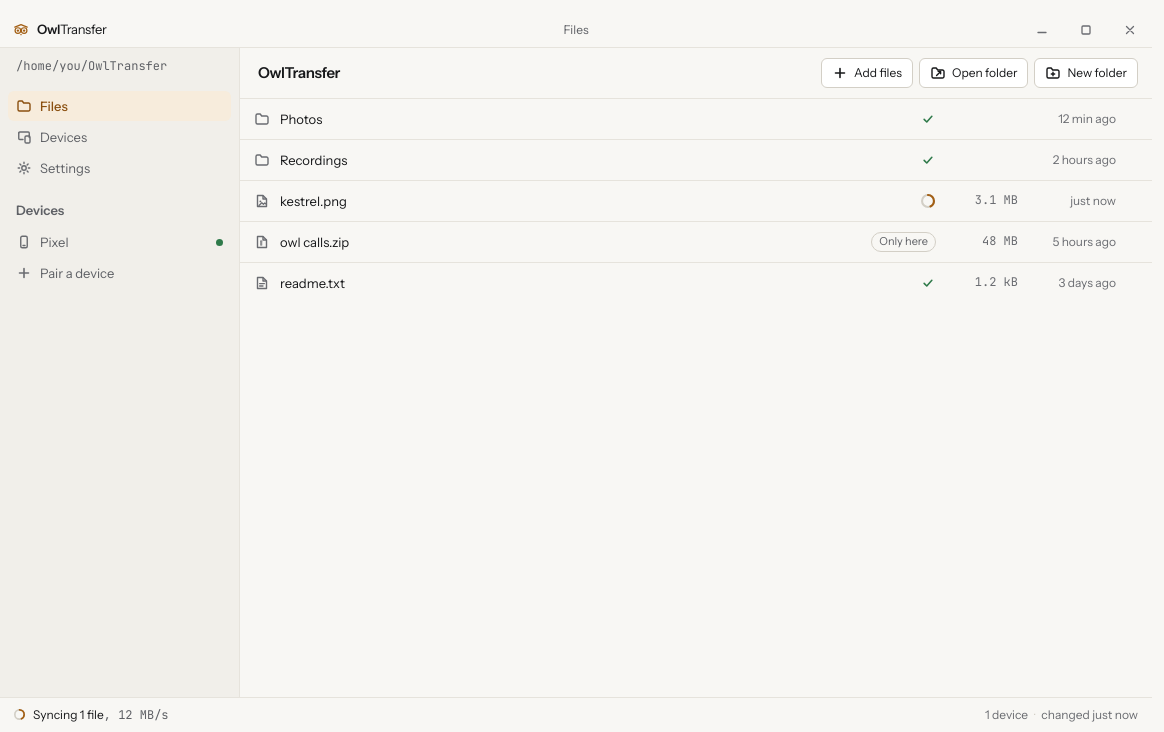
Test: TitleBar › says so when the shell refuses, rather than losing the rejection
Step 1. Click the button named "Close" → (1130, 30), box [1108, 12, 1152, 47]
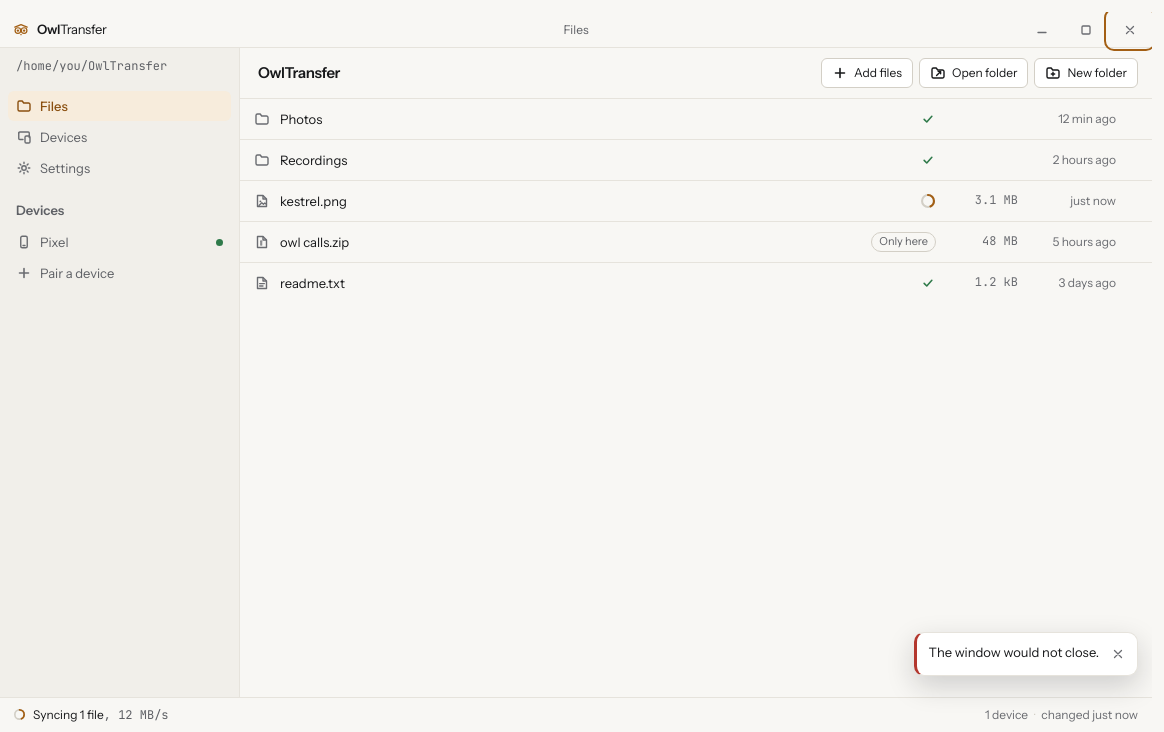
Result: the message "The window would not close." is shown at [914, 632, 1138, 676]
